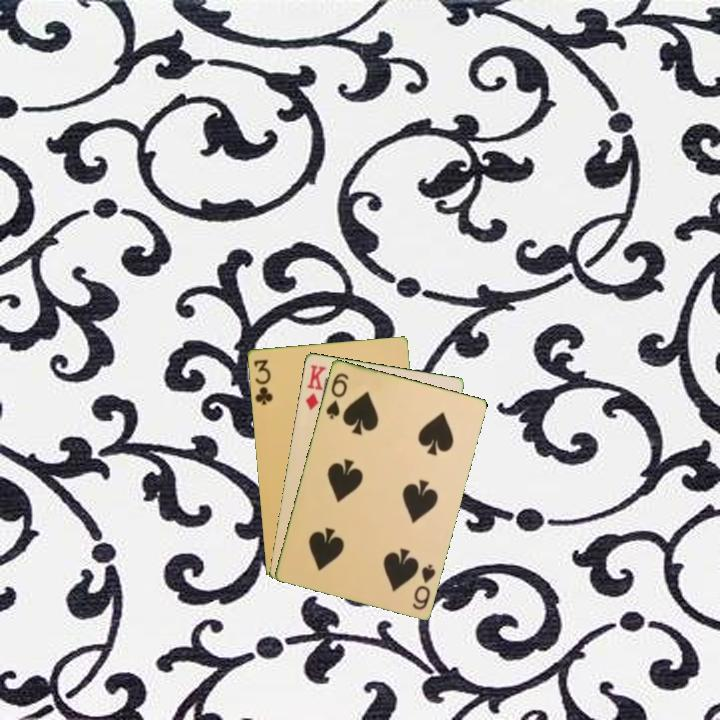3c: (250, 356, 275, 408)
6s: (408, 560, 438, 613), (322, 369, 351, 422)
Kd: (302, 361, 329, 413)
